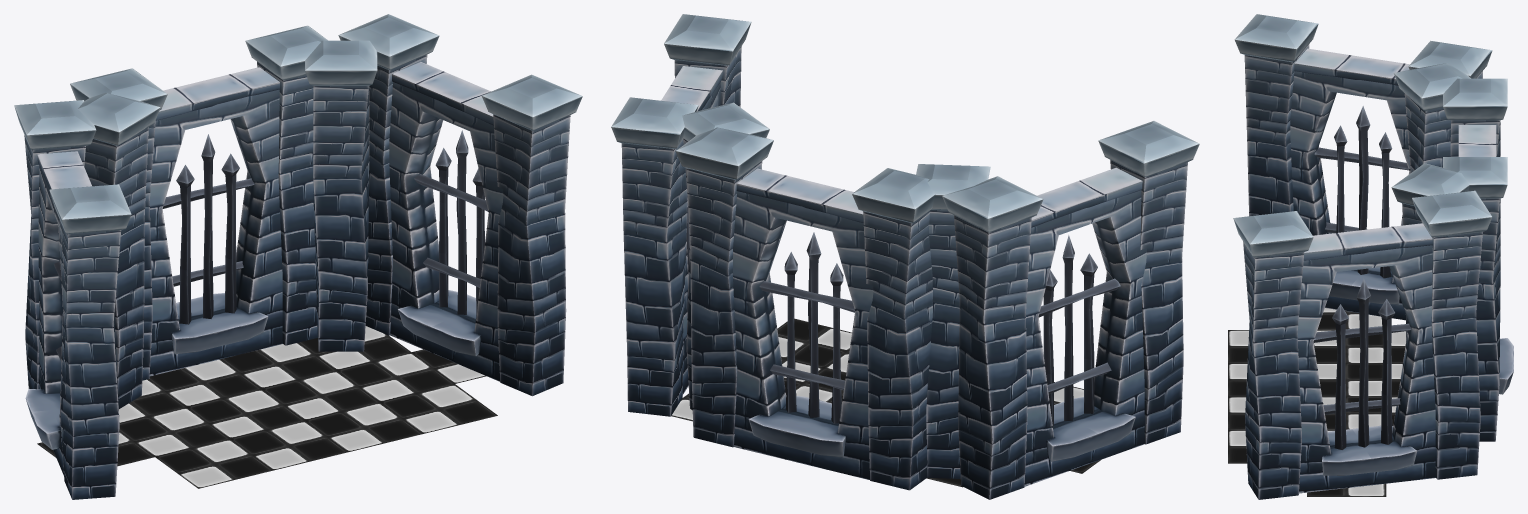
File: Vampire_Village_Interior_05.FBX
3 views of the same model, side by side, from view 1: azimuth 30°, elevation 25°; view 2: azimuth 150°, elevation 25°; view 3: azimuth 270°, elevation 25° (orthographic). The views are drawn at different scales.
Parts seen in each view (by area): view 1: Vampire_Village_Interior_05; view 2: Vampire_Village_Interior_05; view 3: Vampire_Village_Interior_05.
Part boxes in pixels (x1,y1,x2,y2): Vampire_Village_Interior_05: (14, 14, 582, 499); Vampire_Village_Interior_05: (611, 14, 1199, 499); Vampire_Village_Interior_05: (1228, 14, 1513, 499).
Bounding box in the file's own units: 742 × 404 × 389.
